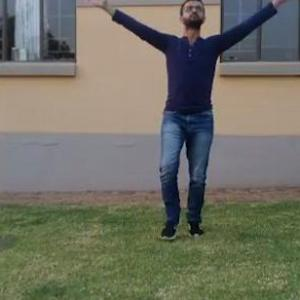takeoff: (75, 0, 299, 245)
